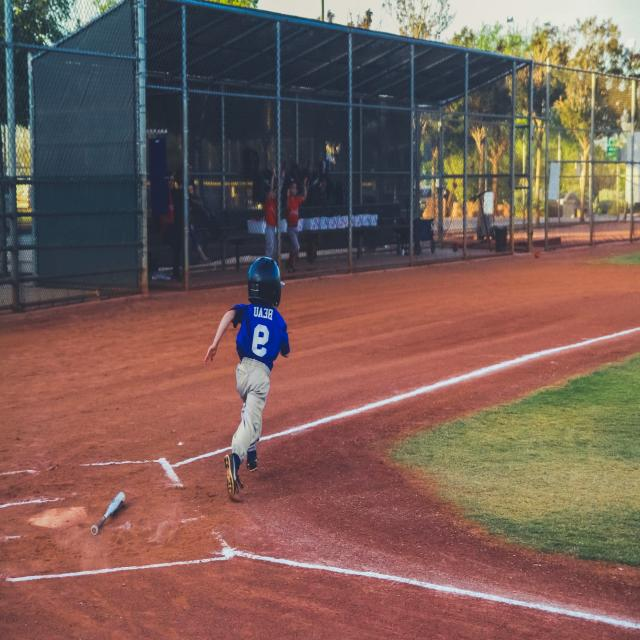adult: (203, 256, 290, 500), (286, 176, 309, 266), (261, 169, 277, 256)
